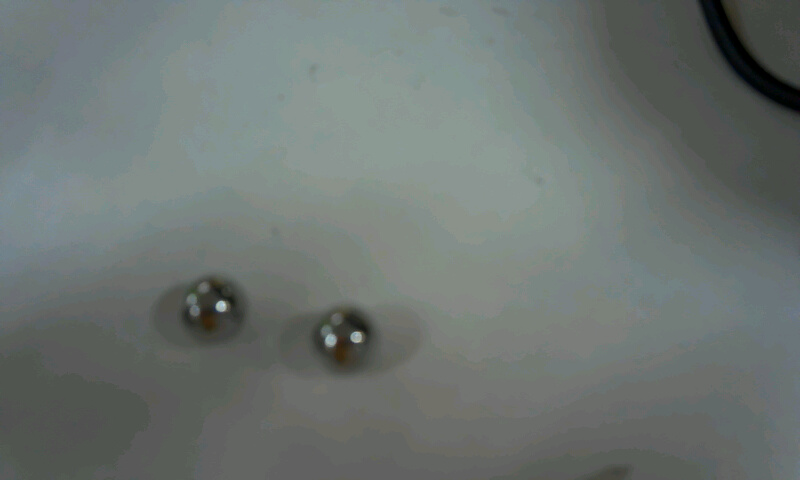steelball: (171, 263, 261, 350), (303, 296, 388, 381)
